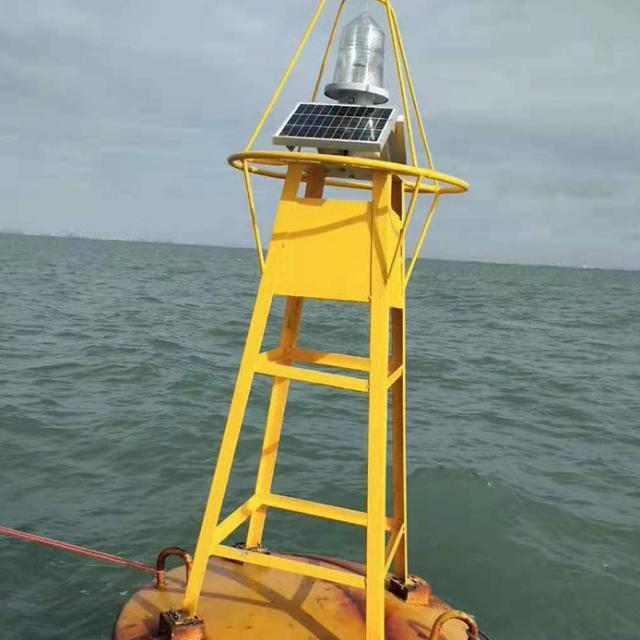buoy: (107, 0, 527, 640)
